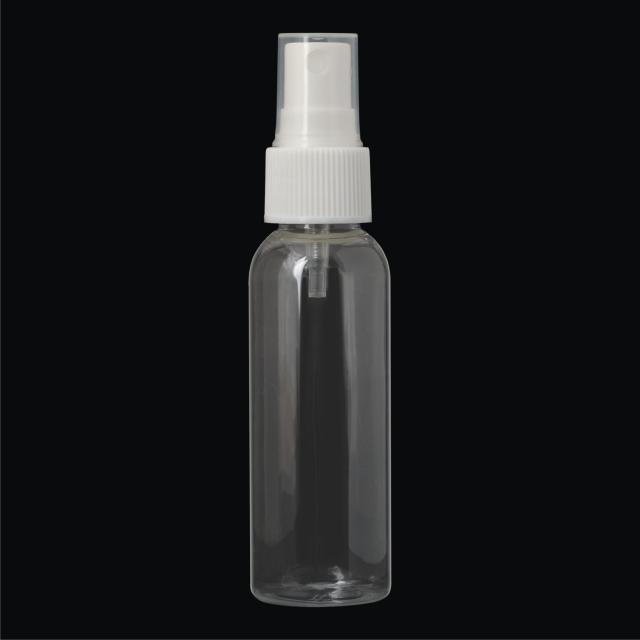plastic_bottle: (250, 30, 390, 606)
